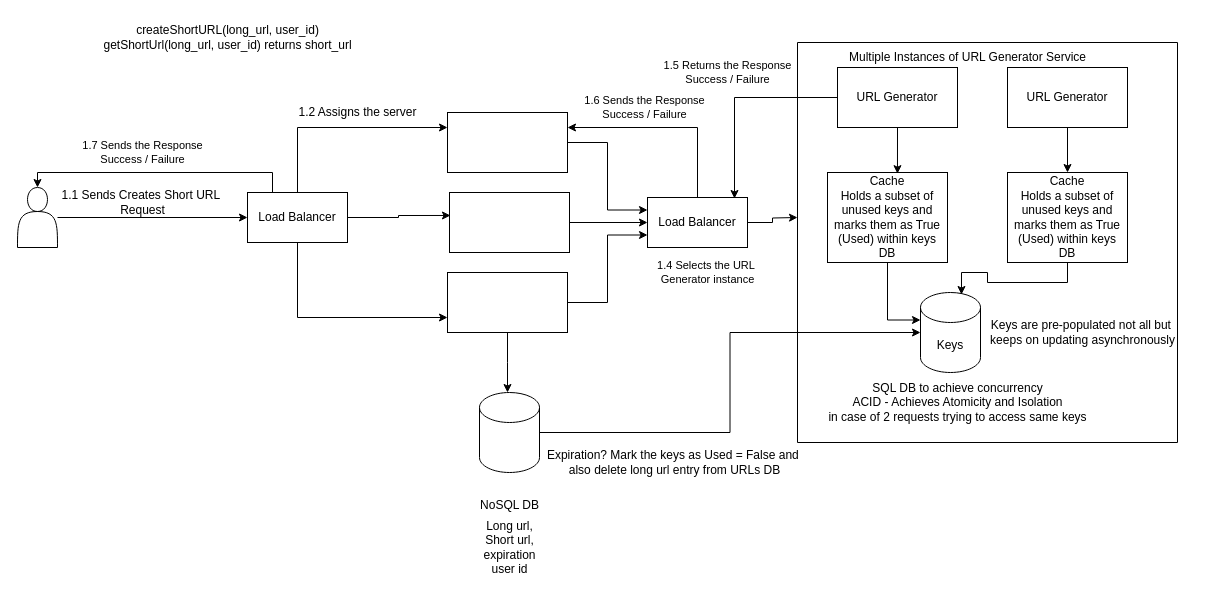
Image size: 1205x599. Some labels were removed from this diagram. Here are the shapes that lost their labels. From the top down, the centre of each, then its label:
At point 507,142: "Server 1".
At point 509,222: "Server 2".
At point 507,302: "Server 3".
At point 509,432: "URLs".
